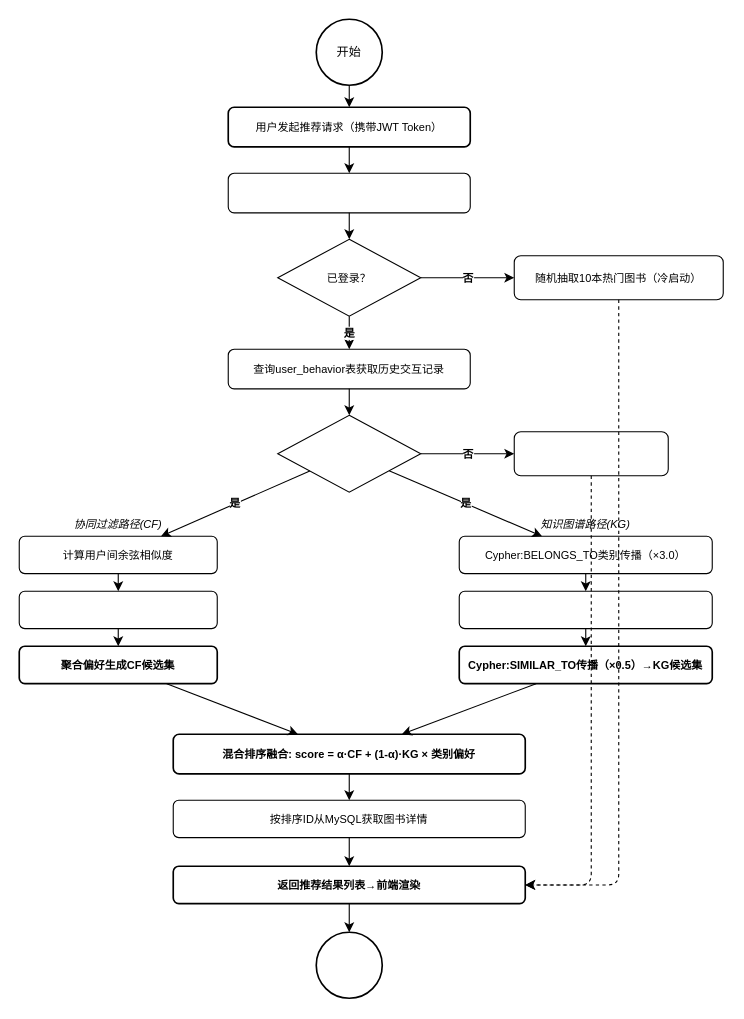
Some shapes in this 744 by 1019 pixel diagram are drawn without their labels. The centre of each missing label's shape, as x and y in pixels:
"Cypher:实体关联查询（×1.0）" goes at point 585,609.
"JwtInterceptor 验证用户身份" goes at point 348,192.
"取Top-K相似用户" goes at point 117,609.
"有历史行为？" goes at point 349,453.
"结束" goes at point 349,965.
"随机抽取图书" goes at point 590,453.
